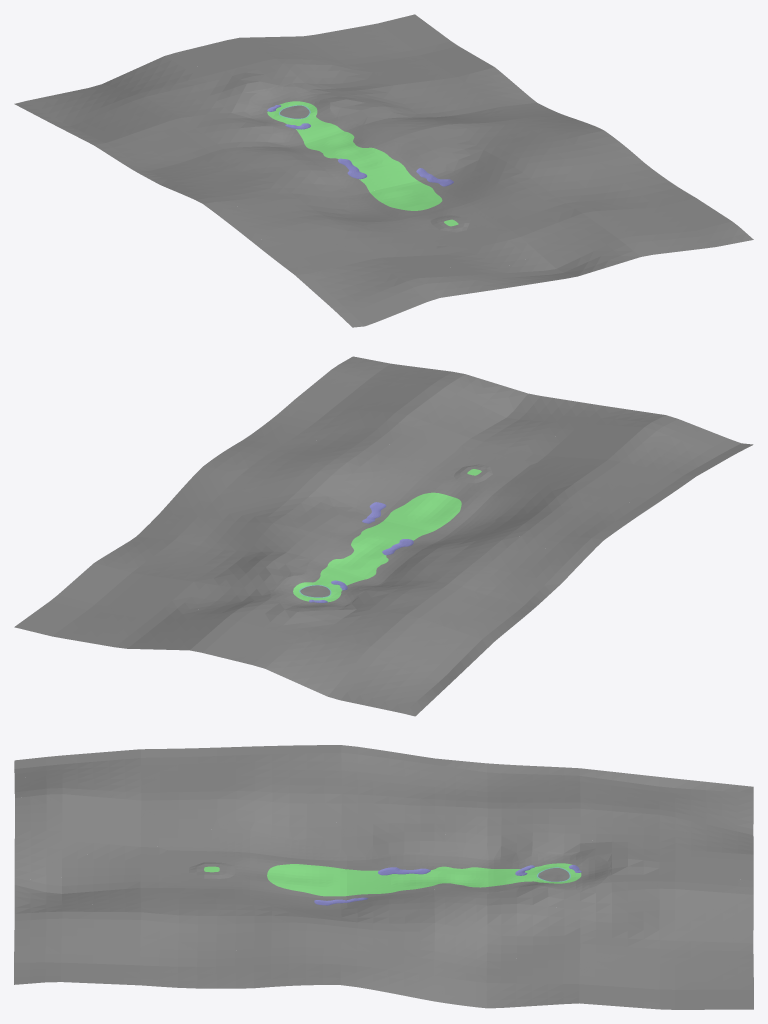
The model's file is glf_course_fc1.glb.
3 views of the same model, one above another, from view 1: azimuth 30°, elevation 25°; view 2: azimuth 150°, elevation 25°; view 3: azimuth 270°, elevation 25° (orthographic). The views are drawn at different scales.
Parts seen in each view (by area): view 1: collision_0x0004, collision_0x0002, collision_0x0001, collision_0x0003; view 2: collision_0x0004, collision_0x0002, collision_0x0001, collision_0x0003; view 3: collision_0x0004, collision_0x0002, collision_0x0001, collision_0x0003.
Boxes of the visible parts, left/top/right/bottom form: collision_0x0004: left=14, top=14, right=753, bottom=327; collision_0x0002: left=248, top=86, right=508, bottom=245; collision_0x0001: left=267, top=101, right=458, bottom=226; collision_0x0003: left=267, top=105, right=453, bottom=186; collision_0x0004: left=14, top=356, right=753, bottom=716; collision_0x0002: left=270, top=452, right=537, bottom=607; collision_0x0001: left=293, top=469, right=481, bottom=602; collision_0x0003: left=309, top=502, right=413, bottom=602; collision_0x0004: left=14, top=745, right=753, bottom=1009; collision_0x0002: left=160, top=828, right=610, bottom=909; collision_0x0001: left=204, top=863, right=581, bottom=896; collision_0x0003: left=314, top=865, right=581, bottom=905.
Bounding box in the file's own units: 5120 × 687 × 7493.
